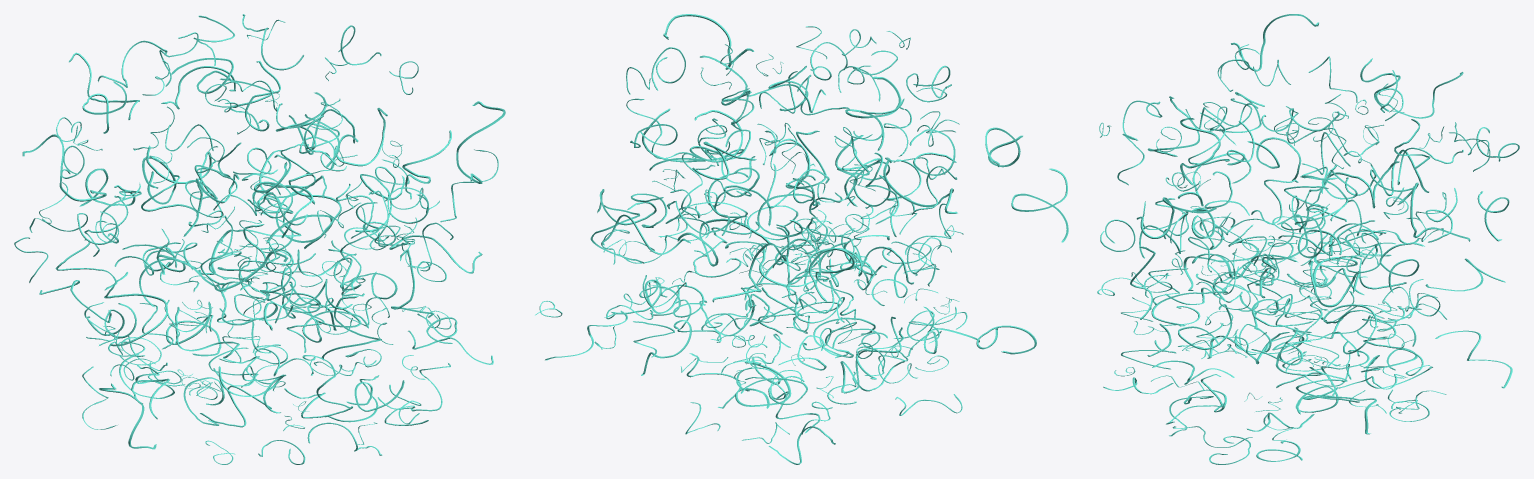
The model's file is ribbons_draco2.glb.
3 renders of one model, left to right at view 1: azimuth 30°, elevation 25°; view 2: azimuth 150°, elevation 25°; view 3: azimuth 270°, elevation 25°, orthographic. The views are drawn at different scales.
Visible parts, largest first — view 1: SPAGHETTI_1, SPAGHETTI; view 2: SPAGHETTI_1, SPAGHETTI; view 3: SPAGHETTI_1, SPAGHETTI.
Part boxes in pixels (<box>): SPAGHETTI_1: <box>14,14,505,360</box>; SPAGHETTI: <box>39,150,493,464</box>; SPAGHETTI_1: <box>590,14,1068,393</box>; SPAGHETTI: <box>535,149,1036,464</box>; SPAGHETTI_1: <box>1099,14,1519,354</box>; SPAGHETTI: <box>1097,206,1512,464</box>.
Size of the model in its own units: 47.5 by 41.03 by 43.83.
